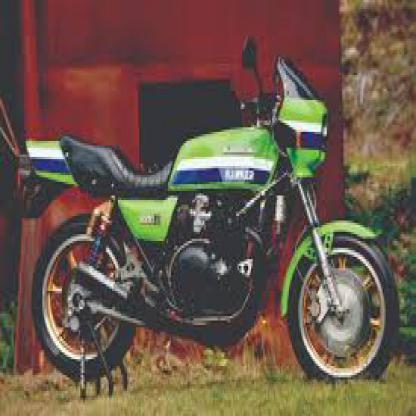Motorcycle: (10, 28, 396, 386)
